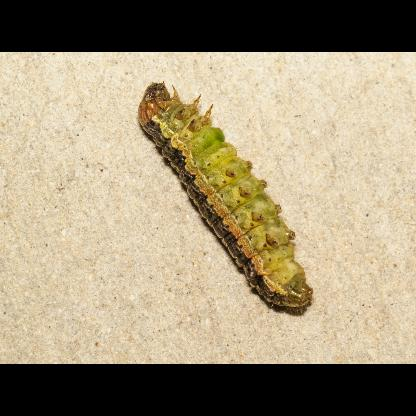Fall Armyworm Larvae: (131, 78, 317, 320)
